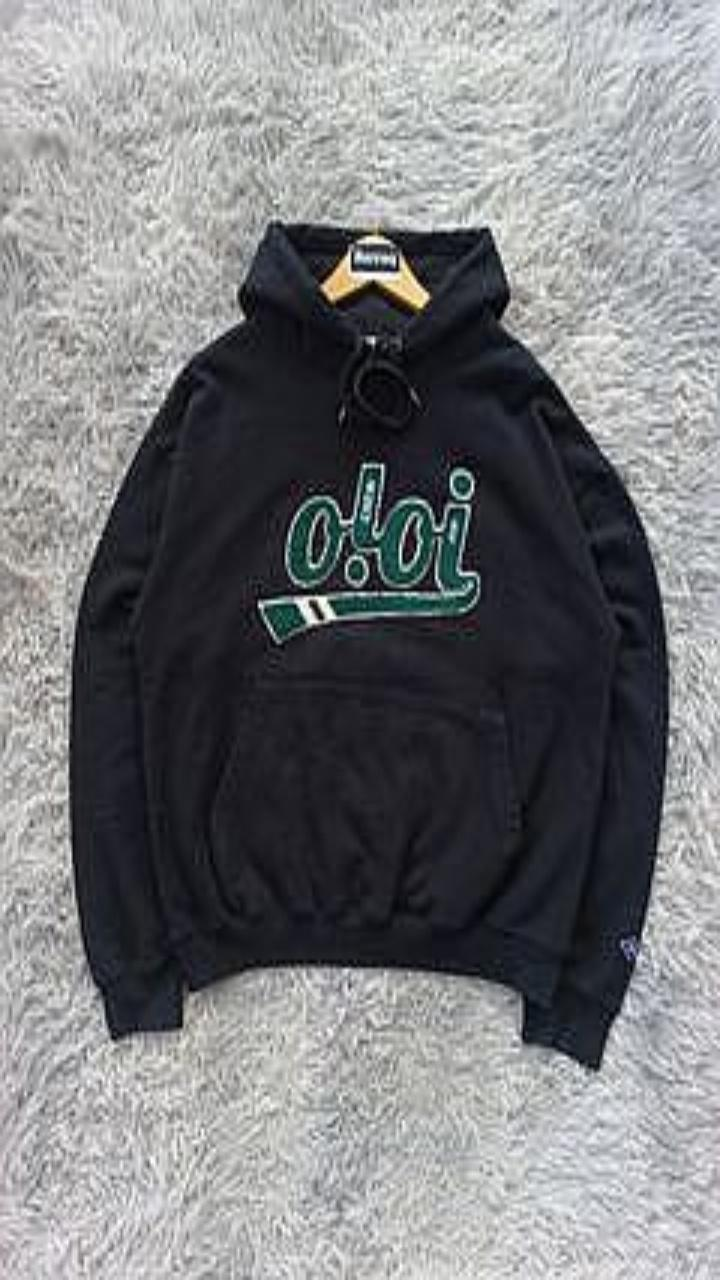Hoodie: (70, 221, 667, 1068)
